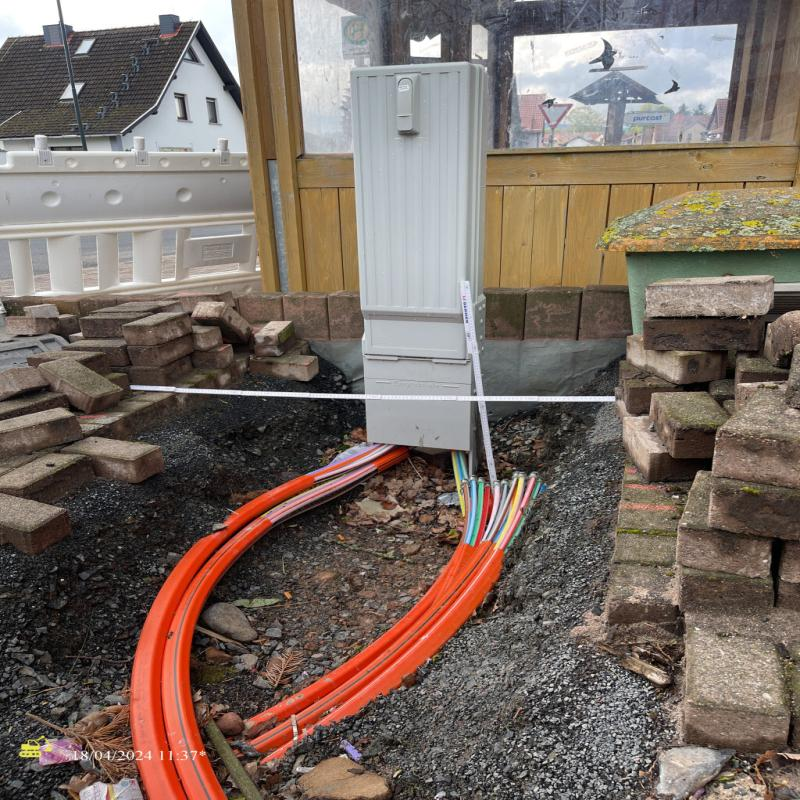NT-Gehause: (344, 60, 490, 451)
Orang-Speednetrohrchen: (132, 449, 388, 799), (255, 473, 533, 759)
